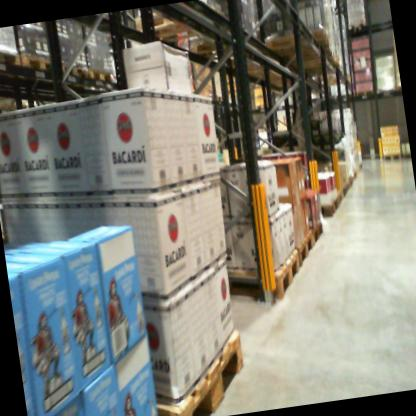pallet: (143, 319, 257, 416), (208, 243, 310, 311), (130, 0, 243, 47), (183, 26, 270, 69), (260, 27, 332, 65), (17, 45, 61, 79), (54, 51, 89, 85), (307, 213, 334, 254), (292, 227, 315, 273), (85, 61, 118, 92), (0, 36, 26, 75), (315, 198, 340, 224), (346, 16, 371, 39), (378, 149, 401, 166)
